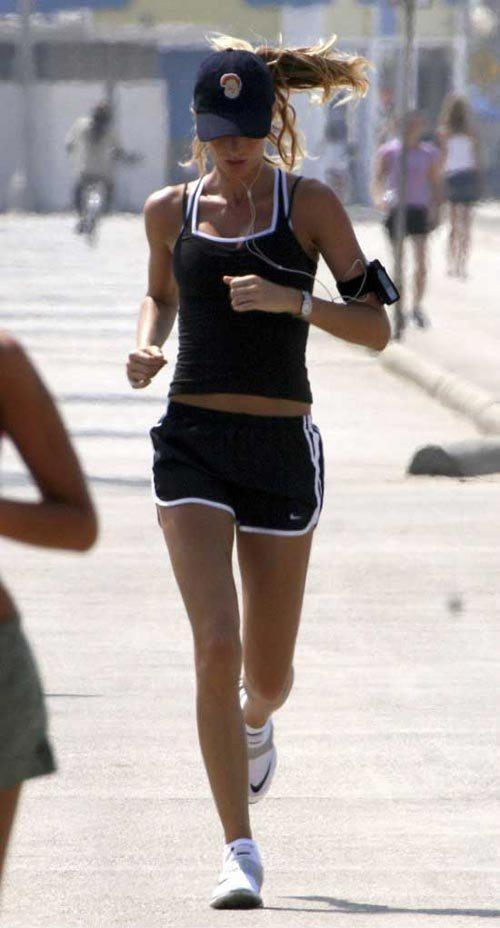person: (127, 37, 392, 911)
